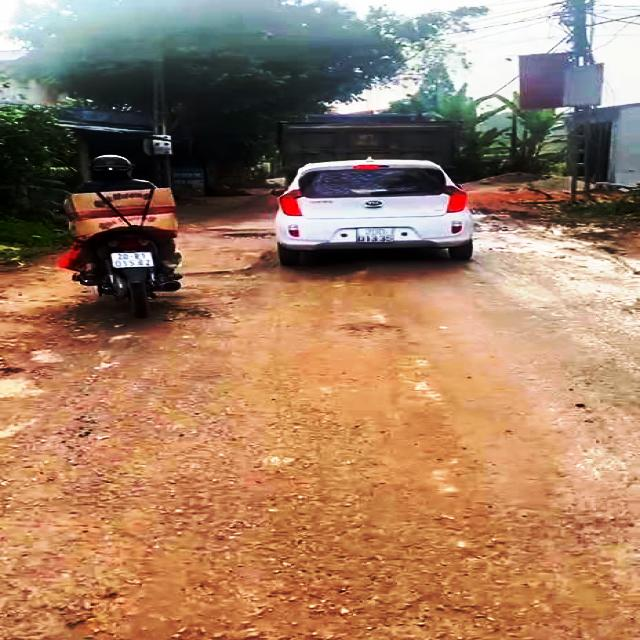pothole: (175, 261, 272, 288), (152, 301, 214, 322)
